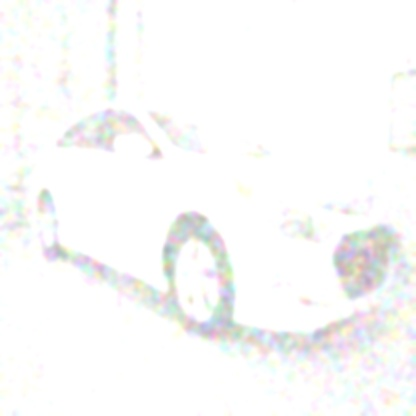Vehicle: (33, 106, 397, 348)
